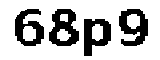6: (10, 3, 47, 52)
8: (47, 2, 80, 54)
9: (113, 6, 155, 52)
p: (81, 15, 111, 60)
